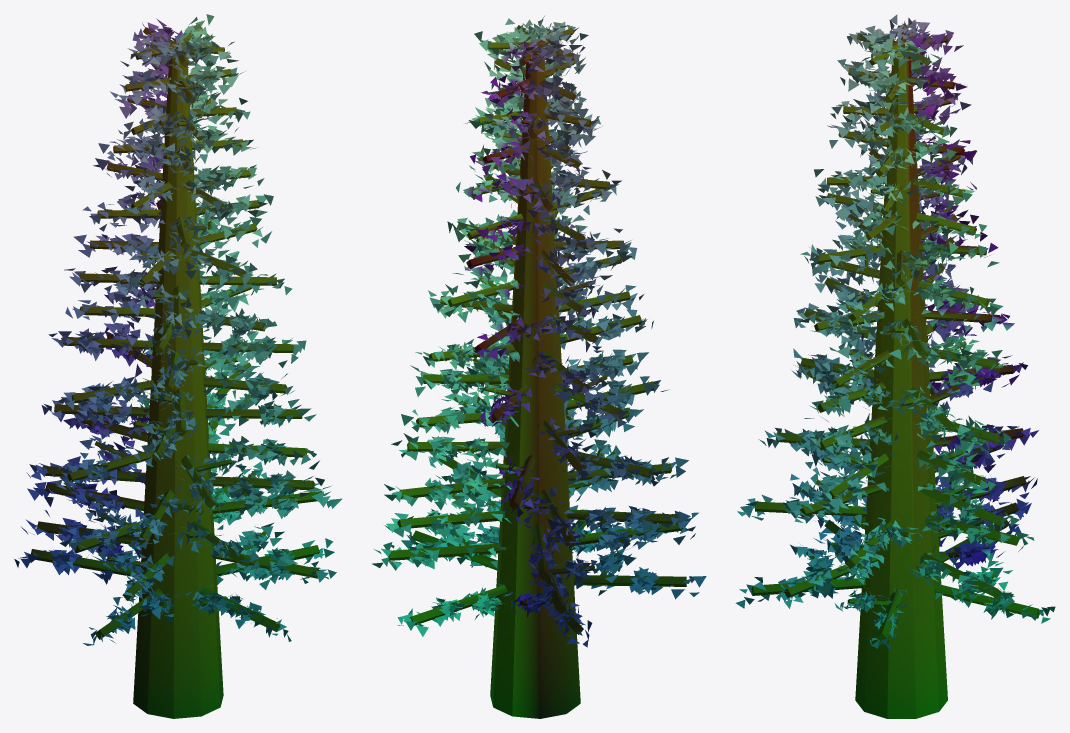
File: ecological_conifer_old_01.glb
The picture shows the model from 3 angles, left to right: view 1: azimuth 30°, elevation 25°; view 2: azimuth 150°, elevation 25°; view 3: azimuth 270°, elevation 25°; orthographic projection.
Parts seen in each view (by area): view 1: ecological_conifer_old_01; view 2: ecological_conifer_old_01; view 3: ecological_conifer_old_01.
Part boxes in pixels (left/top/right/bottom): ecological_conifer_old_01: left=14, top=14, right=342, bottom=718; ecological_conifer_old_01: left=372, top=16, right=706, bottom=718; ecological_conifer_old_01: left=735, top=14, right=1055, bottom=718.
Bounding box in the file's own units: 24.99 × 56.57 × 24.51.
